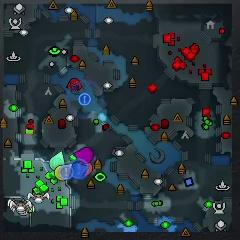Other: (60, 164, 73, 180), (79, 93, 91, 106)
p1: (70, 163, 89, 181)
p2: (50, 149, 65, 171)
p3: (75, 146, 94, 163)
p4: (56, 164, 73, 182)
p5: (84, 163, 94, 176)
